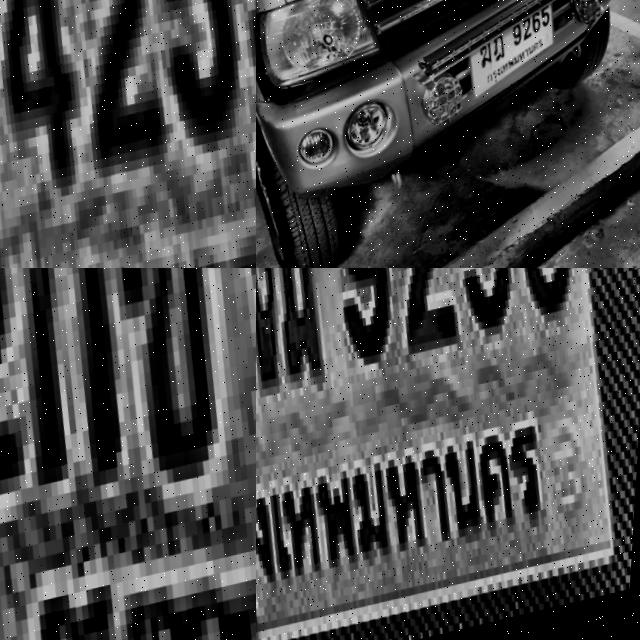license-plate: (256, 268, 640, 640), (0, 268, 256, 640), (0, 0, 256, 268), (459, 0, 575, 111)
